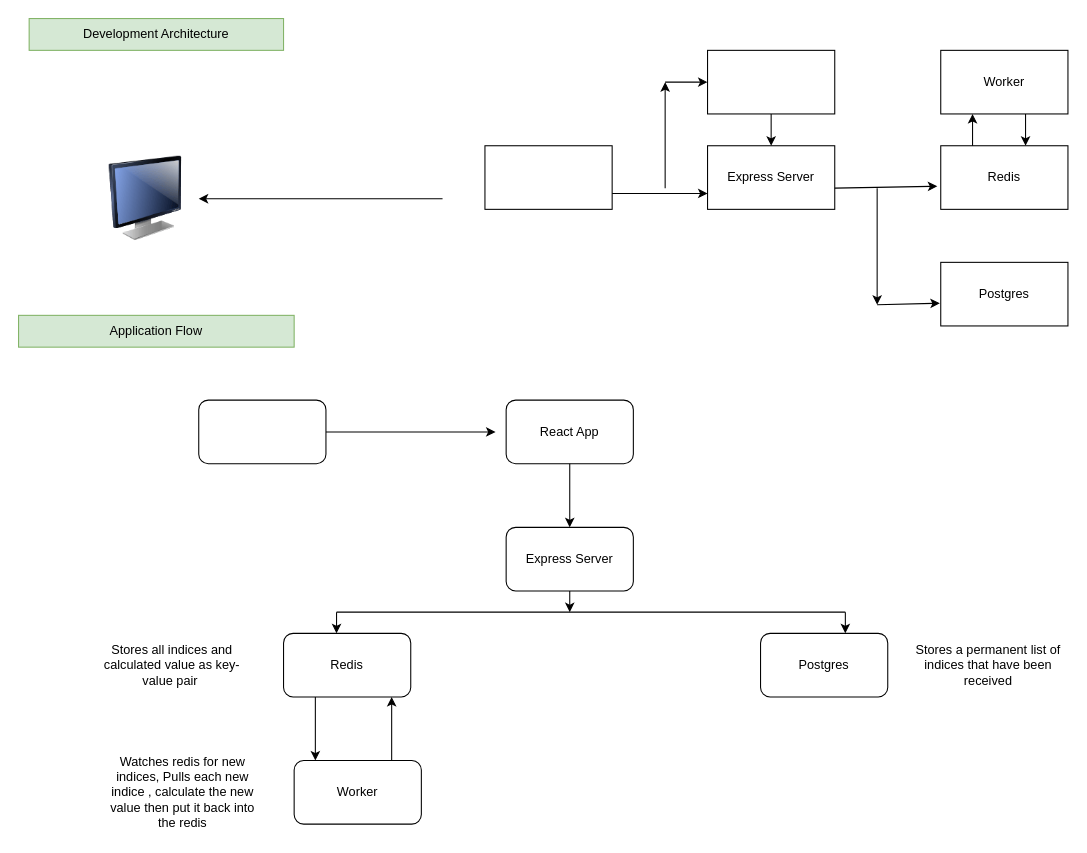
Image size: 1087x853. Some labels were removed from this diagram. Here are the shapes that lost their labels. From the top down, the box of each, then its label:
(706, 49, 835, 114): React Server
(484, 145, 612, 209): Nginx
(198, 399, 326, 464): User Submits number
